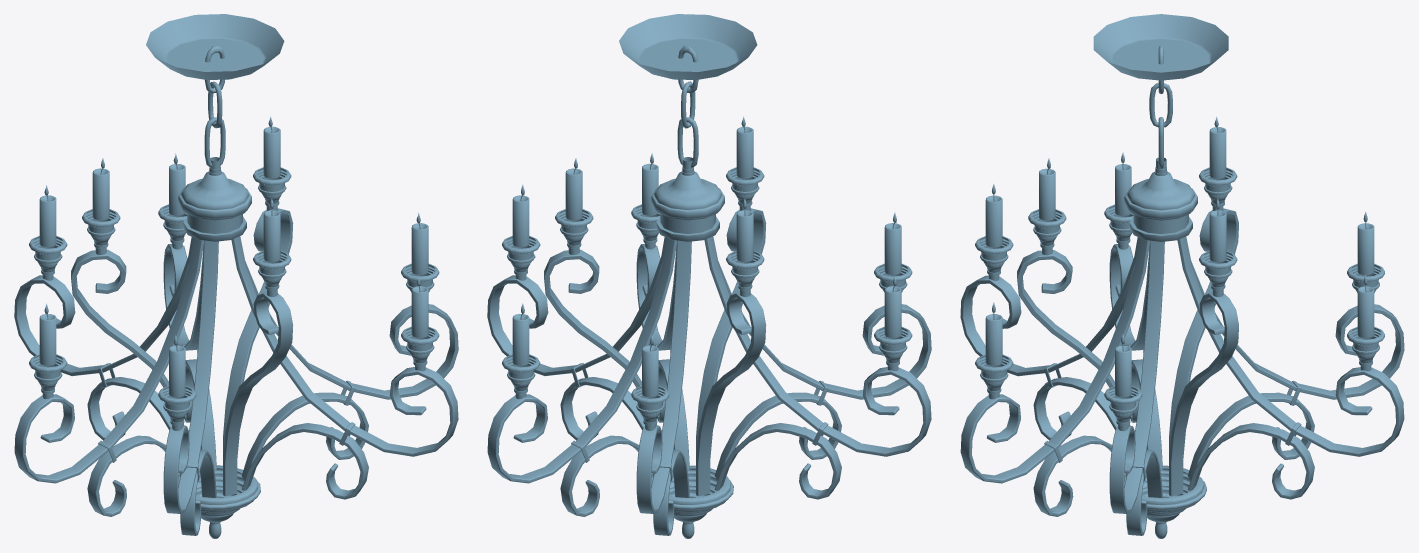
The model's file is HalloweenRoomA_Chandelier.fbx.
3 renders of one model, left to right at view 1: azimuth 30°, elevation 25°; view 2: azimuth 150°, elevation 25°; view 3: azimuth 270°, elevation 25°, orthographic.
Parts seen in each view (by area): view 1: HalloweenRoomA_Chandelier; view 2: HalloweenRoomA_Chandelier; view 3: HalloweenRoomA_Chandelier.
Boxes of the visible parts, x1,y1,x2,y2 form: HalloweenRoomA_Chandelier: (14,14,458,538); HalloweenRoomA_Chandelier: (487,14,931,538); HalloweenRoomA_Chandelier: (960,14,1404,538).
Size of the model in its own units: 115 by 124 by 101.
